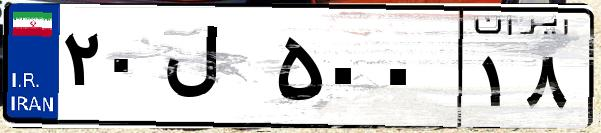0: (385, 28, 445, 110), (330, 28, 385, 110), (110, 28, 158, 98)
1: (475, 38, 525, 113)
2: (57, 26, 110, 100)
5: (270, 28, 330, 110)
8: (525, 38, 570, 115)
ل: (158, 20, 270, 120)
